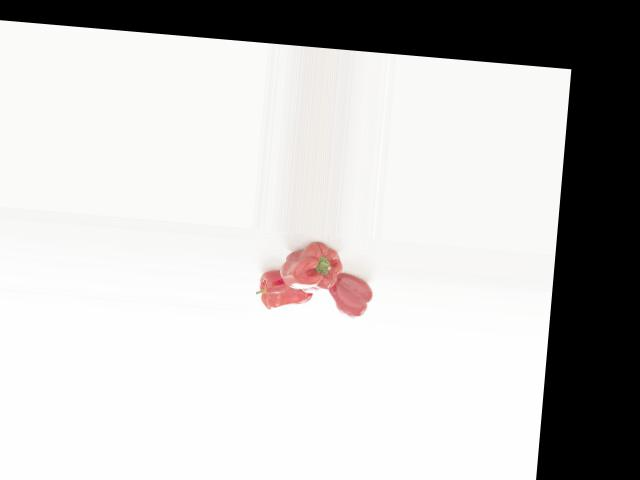bell_pepper: (329, 270, 377, 319)
